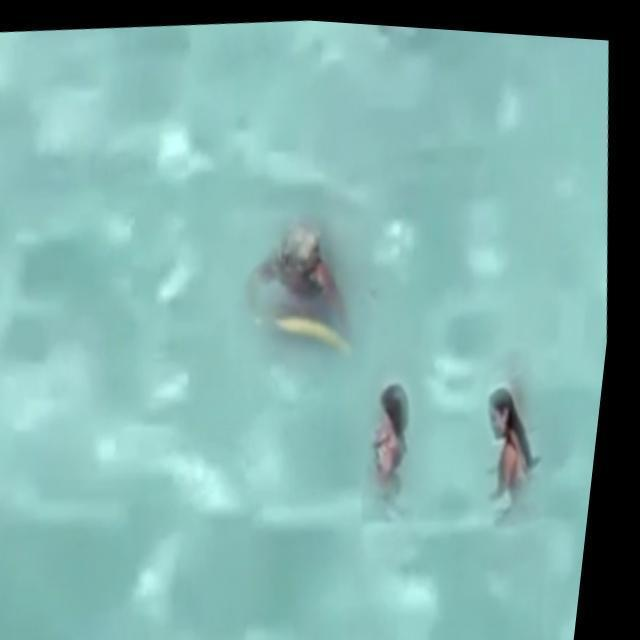swimming: (233, 216, 385, 378), (470, 373, 552, 533), (346, 362, 426, 500)
